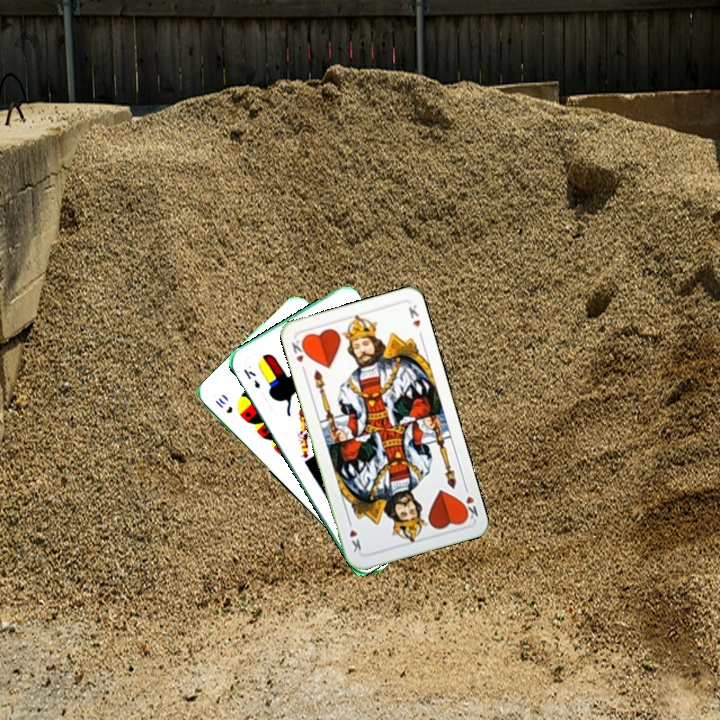EK: (240, 365, 263, 392)
HK: (457, 481, 481, 523), (287, 336, 310, 375)
S10: (211, 393, 235, 416)
